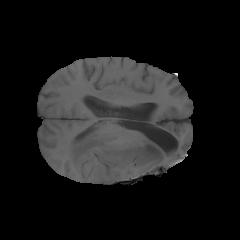glioma: (68, 123, 189, 171)
